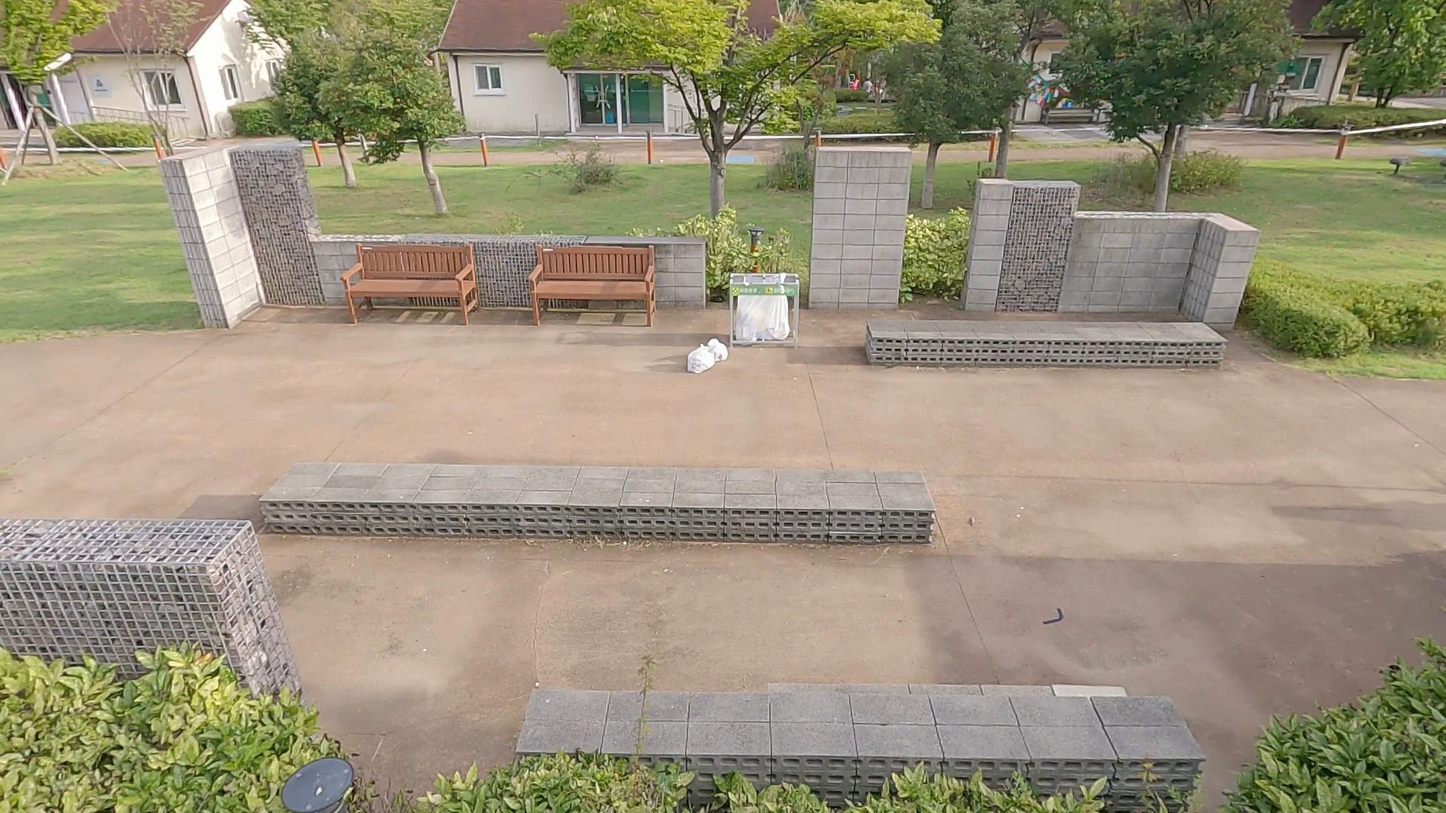trash: (687, 344, 715, 373), (702, 338, 728, 362)
